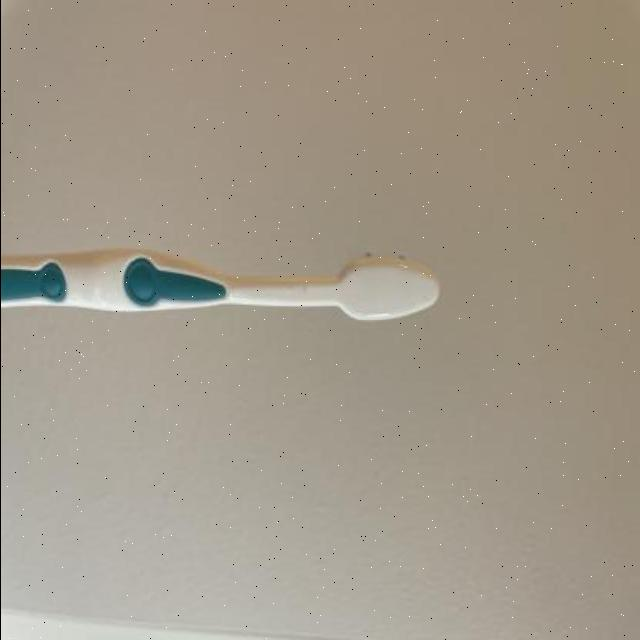toothbrush: (0, 240, 448, 332)
